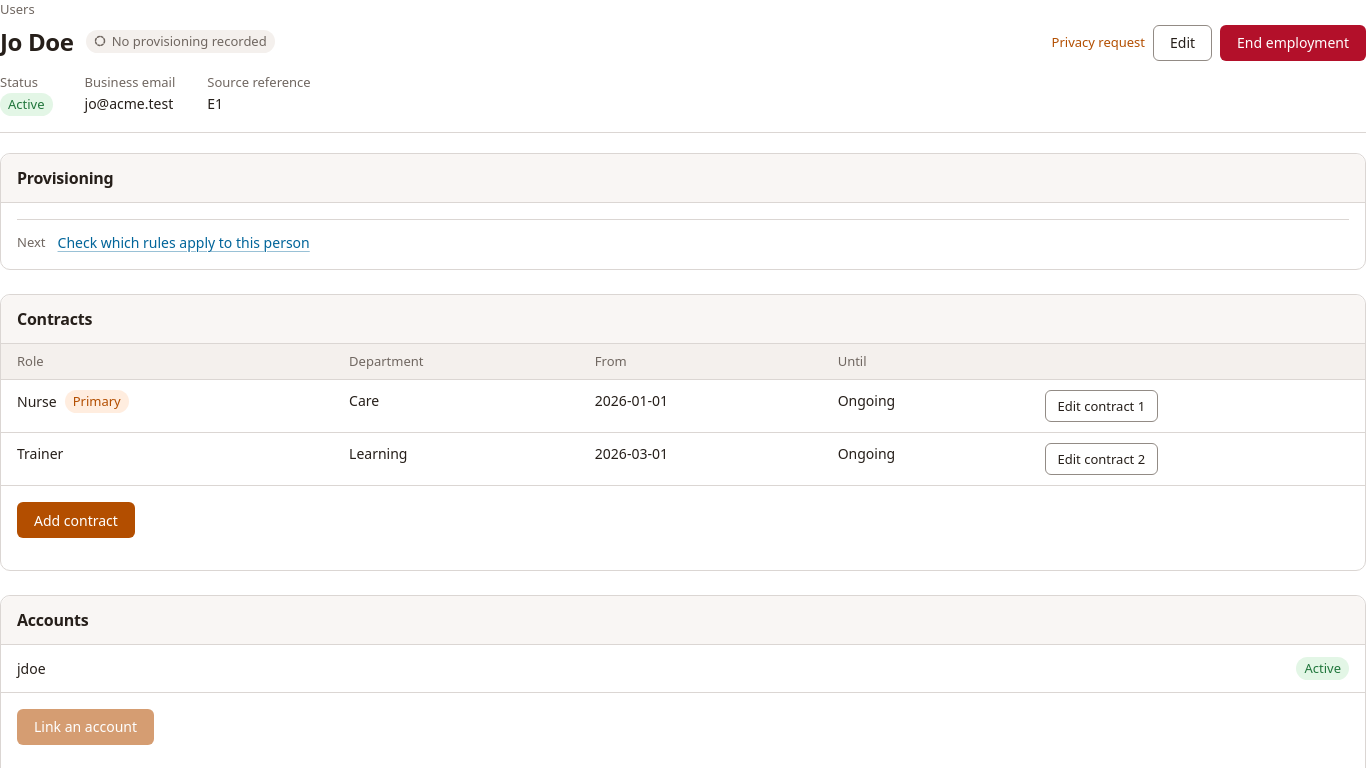
Test: PersonDetailPage contract editing › opens an edit form on a contract row, prefilled from that row
Expected: the text "Nurse" is shown, [17, 391, 57, 412]
What coordinates should you click on to do the following:
click the button "Edit contract 1"
I would click on:
 (1101, 406)
Its box is [1044, 390, 1158, 422].
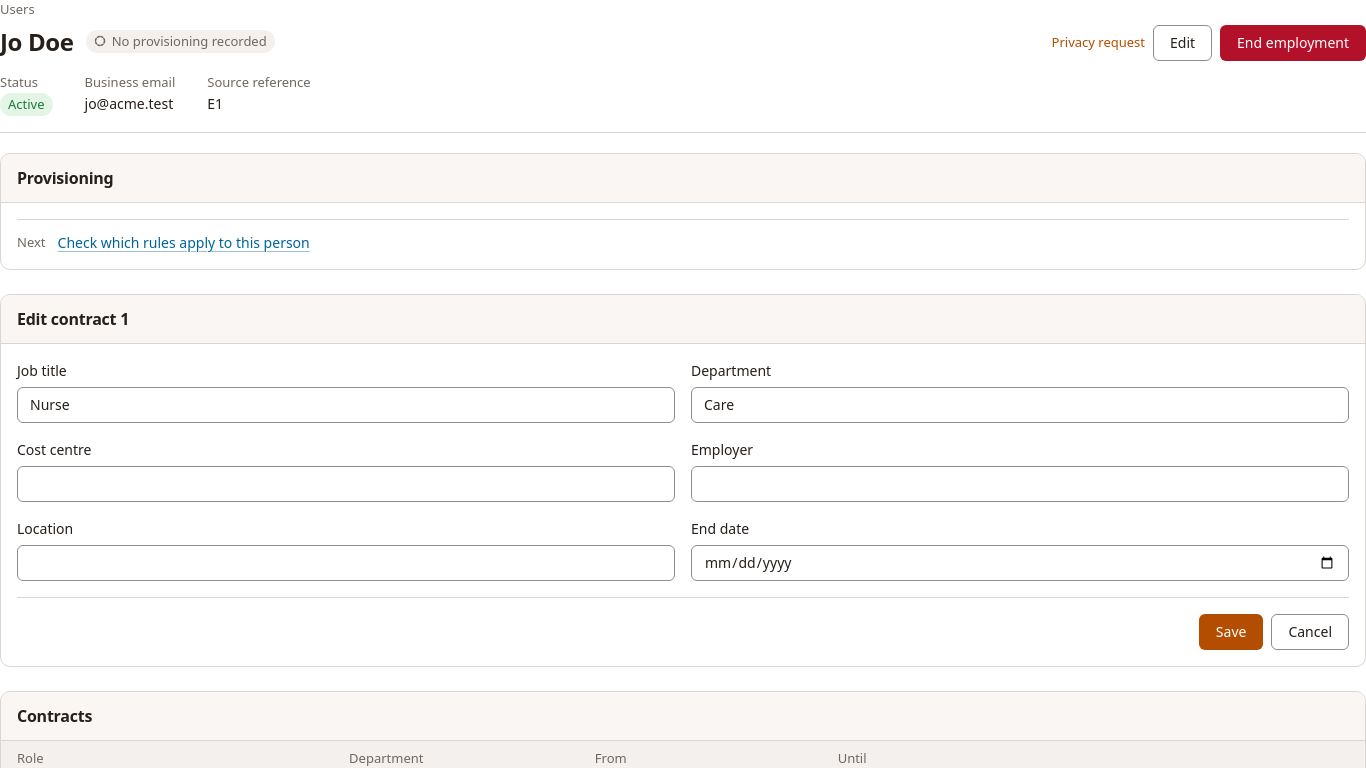
Expected: the field labelled "Department" holds "Care", [691, 387, 1349, 423]
Expected: the field labelled "Job title" holds "Nurse", [17, 387, 675, 423]
